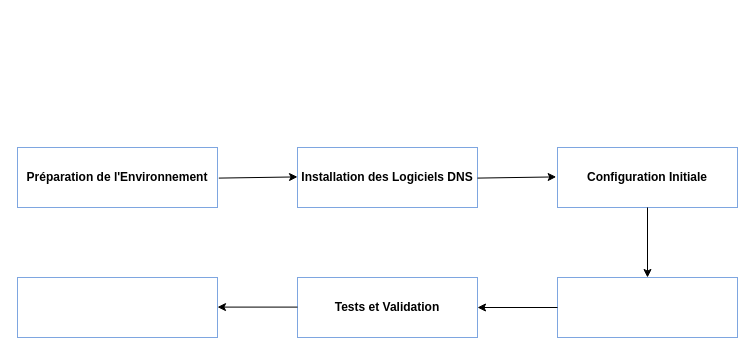
Image size: 755x364. Some labels were removed from this diagram. Each missing label, with the centre of its shape:
"Mise en Production (Installation sur le virtual data center orange)" goes at [117,307].
"Personnalisation des Paramètres" goes at [647,307].
